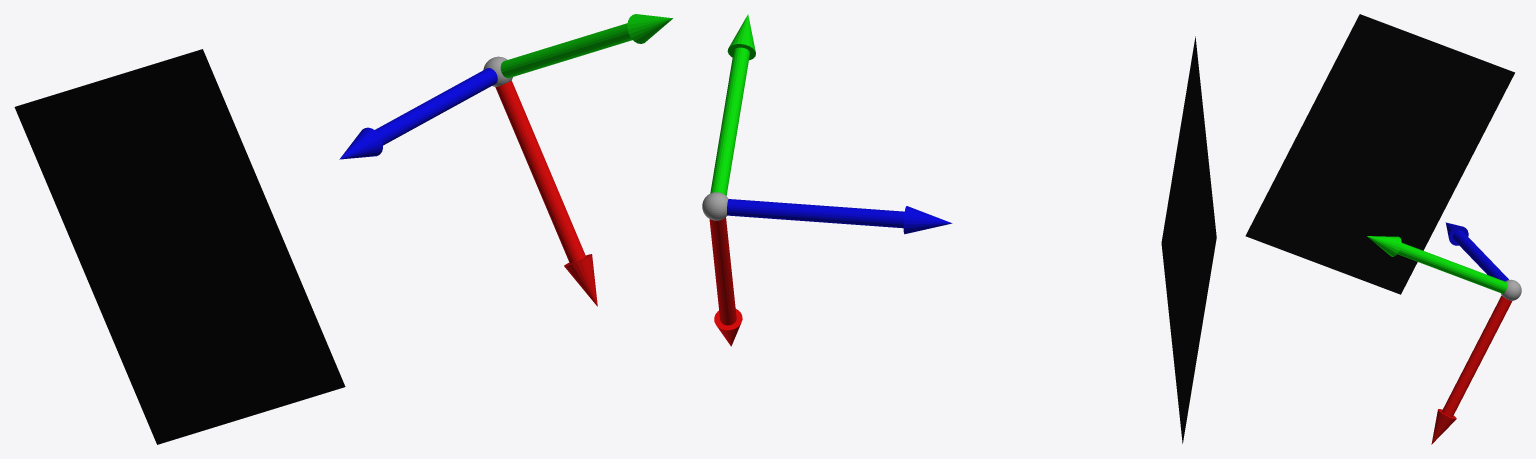
3 views of the same model, side by side, from view 1: azimuth 30°, elevation 25°; view 2: azimuth 150°, elevation 25°; view 3: azimuth 270°, elevation 25° (orthographic). The views are drawn at different scales.
Size of the model in its own units: 0.3103 by 0.2225 by 0.1947.
